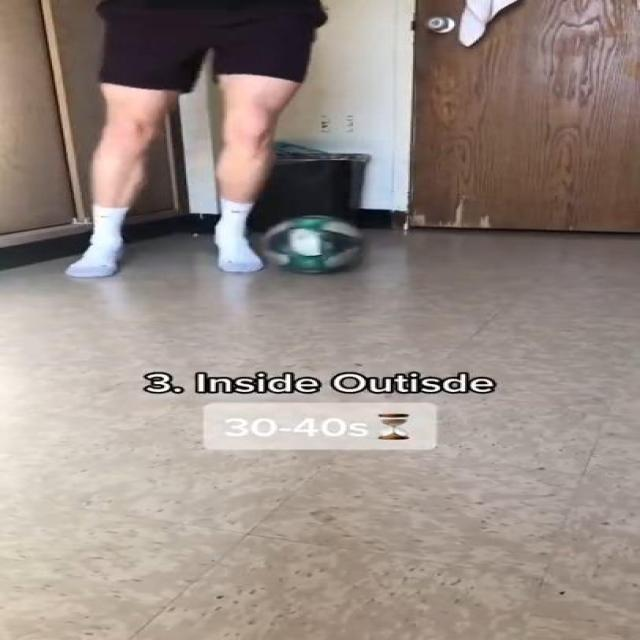Soccer Ball: (262, 215, 367, 274)
